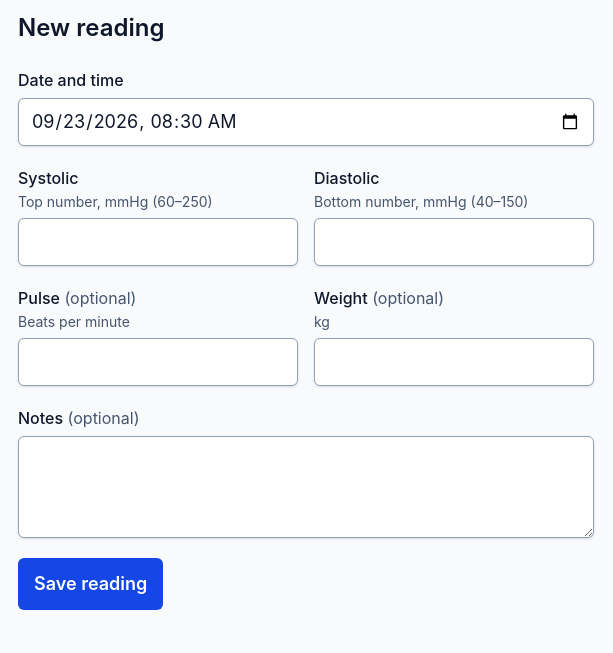
Test: NewReading › invalid submit › clears a field error as soon as that field is edited
Type "300" into the field labelled "Systolic".
click(158, 242); type("300")  # box [18,218,298,266]
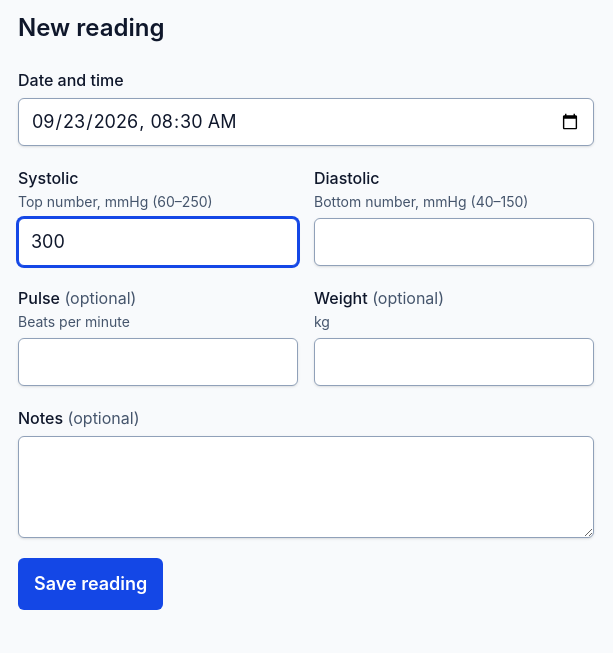
Type "30" into the field labelled "Diastolic".
click(454, 242); type("30")  # box [314,218,594,266]
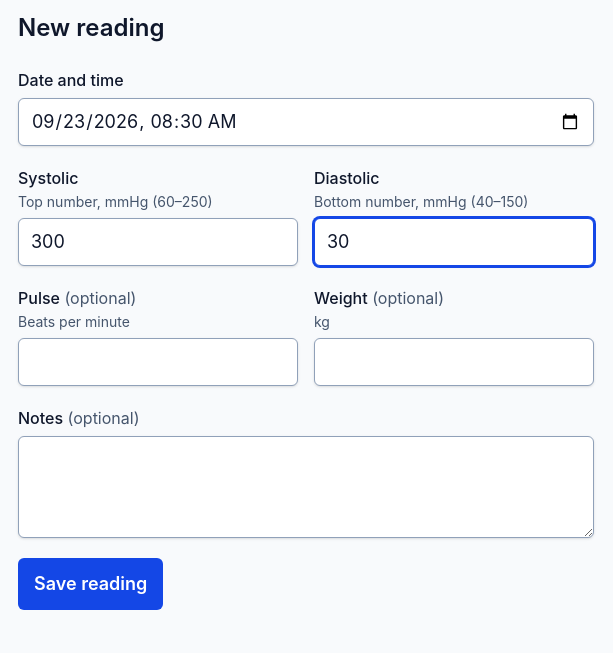
Click the button "Save reading".
click(91, 584)  # box [18,558,163,610]
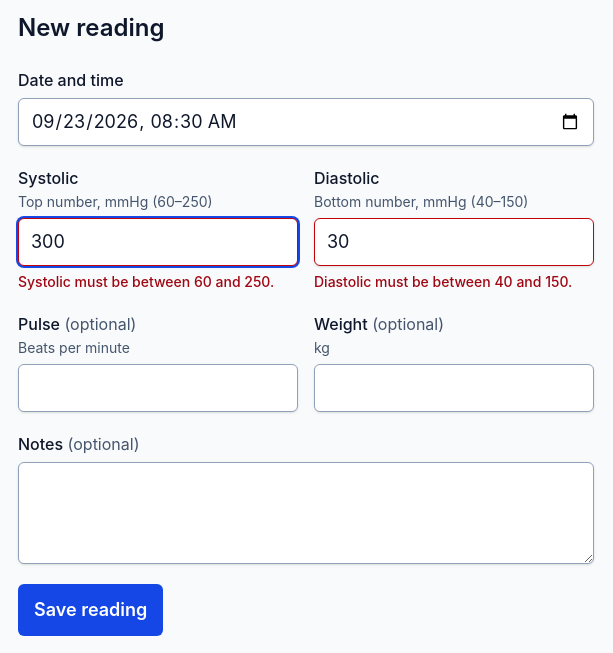
Clear the field labelled "Systolic" at (158, 242), box [18,218,298,266]
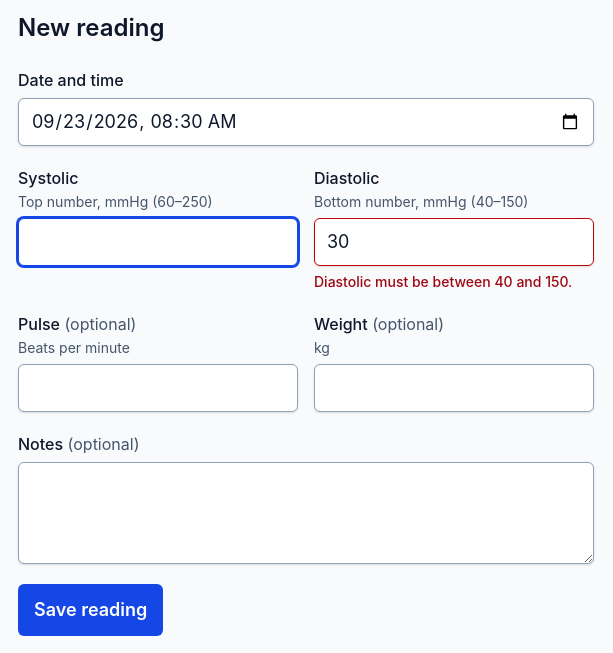
Expected: the text "Systolic must be between" is gone
